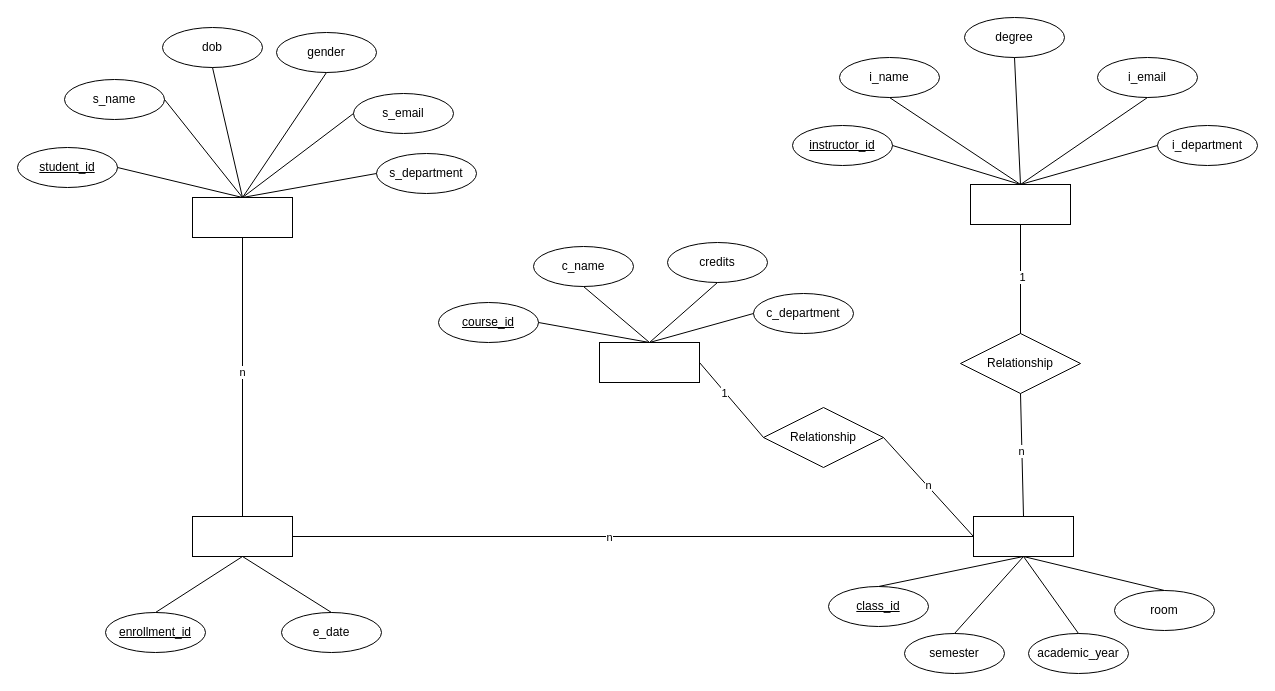
The diagram is 1275 pixels wide and 691 high, and some of its shapes have lost their labels. The shapes that lost their labels are listed below. From the top down, each one's centre as x and y in pixels, then its label:
At [242,217]: "Student".
At [1020,204]: "Instructor".
At [649,362]: "Course".
At [242,536]: "Enrollment".
At [1023,536]: "Class_Section".
